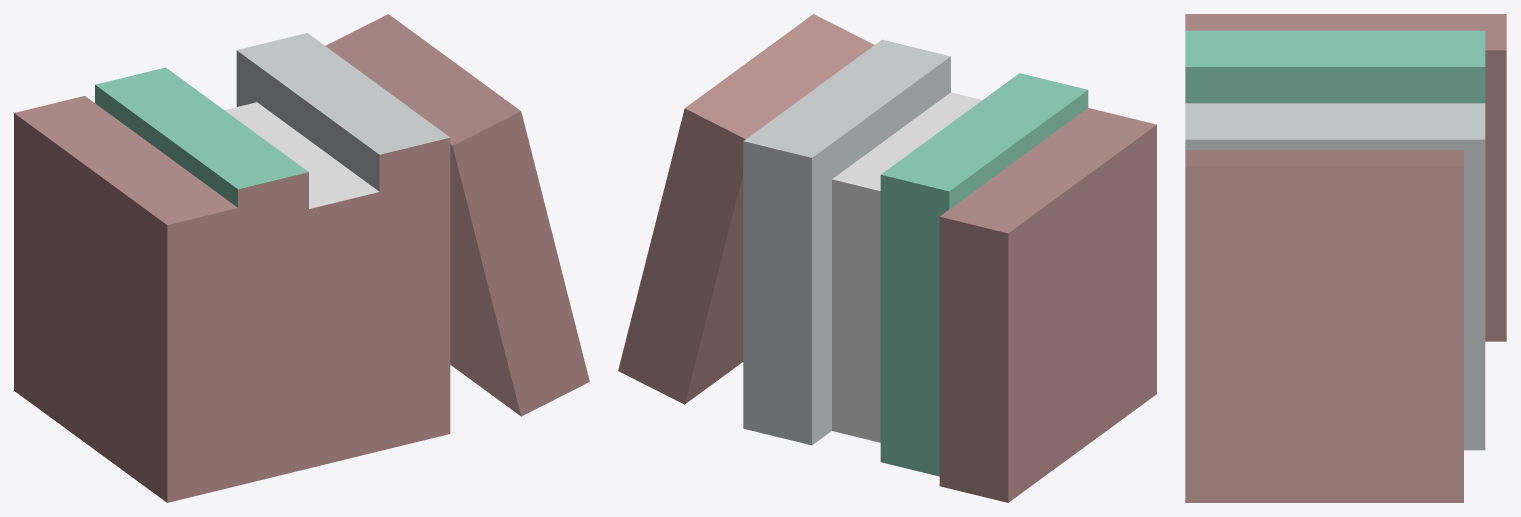
The model's file is books.glb.
3 views of the same model, side by side, from view 1: azimuth 30°, elevation 25°; view 2: azimuth 150°, elevation 25°; view 3: azimuth 270°, elevation 25° (orthographic). The views are drawn at different scales.
Parts seen in each view (by area): view 1: books(Clone); view 2: books(Clone); view 3: books(Clone).
Boxes of the visible parts, box(x1,y1,x2,y2) form: books(Clone): box(14, 14, 589, 502); books(Clone): box(618, 14, 1156, 502); books(Clone): box(1185, 14, 1506, 502).
Bounding box in the file's own units: 0.3159 × 0.2182 × 0.1985.
